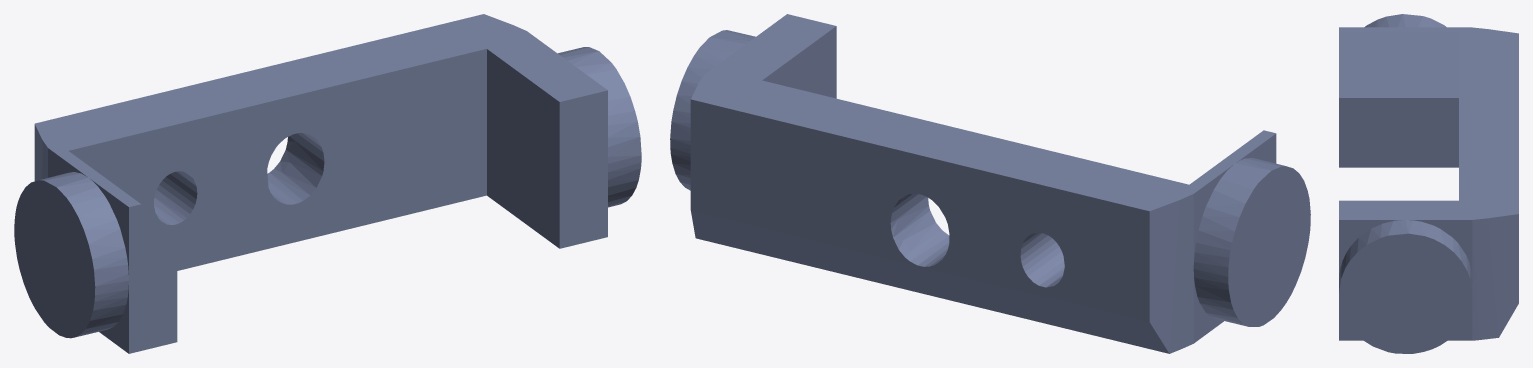
File: i02_head_left_eye_horizontal_visual.obj.balanced.glb
3 views of the same model, side by side, from view 1: azimuth 30°, elevation 25°; view 2: azimuth 150°, elevation 25°; view 3: azimuth 270°, elevation 25° (orthographic). The views are drawn at different scales.
Size of the model in its own units: 0.1838 by 0.0472 by 0.0637.
